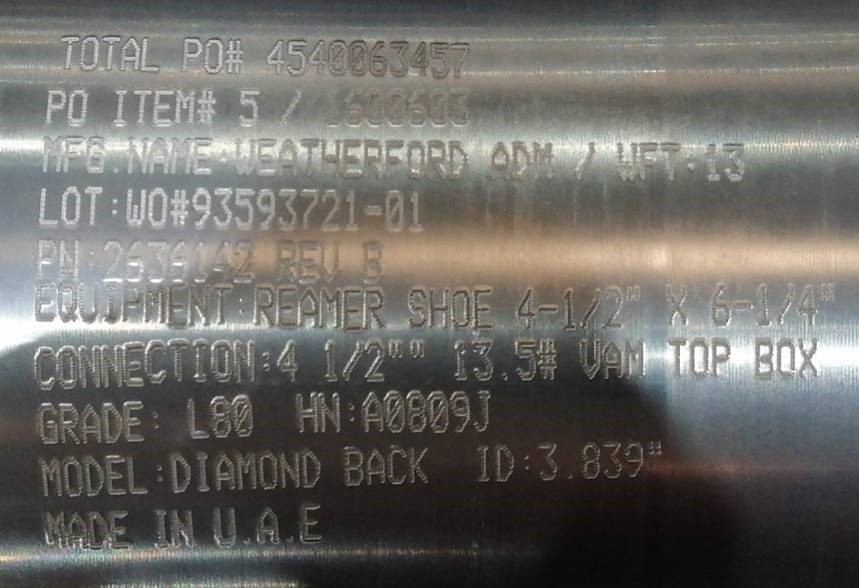character: (479, 137, 514, 187), (184, 279, 215, 331), (181, 392, 213, 442), (295, 501, 329, 548), (704, 280, 737, 328), (535, 330, 564, 384), (597, 333, 628, 383), (600, 284, 632, 331), (205, 336, 236, 384), (36, 453, 67, 501), (251, 503, 284, 548), (270, 87, 306, 128), (161, 237, 191, 286), (31, 344, 60, 394), (98, 339, 126, 390), (207, 184, 236, 233), (748, 336, 778, 383), (611, 138, 642, 183), (620, 335, 649, 383), (31, 401, 61, 447), (142, 336, 168, 389), (232, 86, 264, 129), (272, 184, 300, 233), (470, 387, 498, 436), (73, 279, 102, 326), (511, 281, 540, 328), (292, 390, 321, 437), (317, 234, 343, 286), (231, 240, 261, 285), (793, 279, 820, 329), (57, 398, 84, 448), (357, 388, 385, 436), (117, 399, 146, 445), (145, 86, 176, 129), (662, 331, 689, 380), (231, 391, 258, 440), (359, 237, 387, 284), (139, 279, 167, 326), (576, 336, 604, 383), (795, 336, 824, 381), (292, 236, 318, 286), (686, 331, 712, 381), (315, 285, 342, 333), (362, 333, 389, 381), (207, 392, 234, 440), (165, 450, 192, 498), (123, 452, 151, 498), (168, 506, 196, 552), (210, 505, 238, 551), (231, 184, 256, 235), (426, 286, 452, 335), (40, 510, 71, 551), (513, 337, 540, 384), (250, 283, 278, 328), (492, 441, 520, 486), (209, 234, 234, 284), (120, 339, 145, 389), (774, 334, 799, 384), (172, 34, 204, 73), (381, 137, 407, 185), (98, 279, 124, 327), (474, 331, 498, 383), (323, 33, 350, 79), (657, 139, 684, 185), (664, 282, 692, 326), (382, 443, 410, 487), (317, 388, 342, 437), (403, 387, 428, 436), (277, 445, 302, 494), (104, 449, 128, 500), (424, 137, 450, 184), (272, 283, 298, 330), (76, 343, 102, 390), (406, 441, 432, 488), (86, 506, 112, 553), (318, 134, 345, 179), (56, 339, 78, 394), (570, 139, 601, 178), (254, 185, 278, 235), (381, 187, 406, 235), (121, 236, 146, 284), (361, 286, 386, 334), (164, 336, 189, 384), (382, 386, 406, 436), (106, 505, 131, 553), (341, 134, 364, 186), (318, 187, 344, 233), (338, 287, 364, 333), (211, 449, 237, 495), (54, 34, 83, 75), (443, 139, 470, 183), (339, 443, 366, 487), (250, 135, 278, 177), (471, 284, 495, 333), (427, 37, 452, 84), (446, 36, 471, 83), (58, 181, 83, 228), (145, 183, 170, 230), (167, 184, 192, 231), (126, 133, 152, 178), (81, 453, 107, 498), (636, 140, 663, 183), (533, 285, 560, 328), (336, 338, 363, 381), (233, 449, 260, 492), (299, 447, 323, 495), (122, 184, 148, 228), (404, 186, 426, 238), (295, 287, 321, 331), (36, 136, 65, 175), (361, 137, 385, 184), (33, 278, 57, 325), (772, 279, 796, 326), (426, 389, 450, 436), (386, 36, 411, 81), (82, 181, 104, 232), (273, 338, 299, 381), (188, 184, 211, 232), (710, 333, 733, 381), (296, 136, 321, 180), (402, 138, 427, 182), (56, 238, 81, 282), (187, 336, 209, 386), (82, 136, 108, 178), (99, 399, 122, 446), (138, 33, 162, 78), (722, 142, 746, 187), (118, 281, 142, 326), (404, 286, 428, 331), (578, 285, 602, 330), (449, 339, 473, 384), (448, 389, 472, 434), (536, 439, 560, 484), (756, 279, 778, 328), (275, 236, 298, 282), (556, 285, 579, 331), (359, 189, 383, 233), (64, 86, 89, 128), (192, 448, 214, 495), (68, 506, 90, 553), (257, 445, 278, 494), (193, 87, 220, 125), (78, 32, 103, 73), (61, 135, 86, 176), (451, 284, 471, 335), (170, 134, 193, 178), (56, 281, 79, 325), (165, 280, 187, 326), (60, 456, 83, 500), (346, 34, 370, 76), (511, 139, 532, 187), (340, 186, 361, 234), (33, 236, 57, 278), (99, 241, 123, 283), (213, 281, 234, 329), (579, 440, 603, 482), (286, 36, 311, 76), (298, 187, 320, 232), (234, 339, 256, 384), (81, 399, 103, 444), (129, 86, 152, 129), (192, 135, 215, 178), (364, 442, 385, 489), (201, 34, 225, 75), (37, 187, 62, 226), (189, 237, 210, 283), (732, 281, 755, 323), (532, 137, 554, 180), (236, 135, 259, 176), (42, 86, 66, 125), (146, 136, 170, 175), (278, 136, 300, 178), (144, 240, 165, 284), (150, 506, 171, 550), (623, 438, 644, 481), (409, 39, 431, 80), (320, 337, 339, 384), (263, 39, 287, 76), (369, 36, 390, 78), (174, 87, 195, 129), (473, 442, 493, 486), (221, 37, 246, 72), (603, 438, 623, 481), (118, 33, 139, 73), (109, 88, 129, 129), (703, 140, 723, 181), (100, 32, 120, 72), (307, 37, 328, 75)
